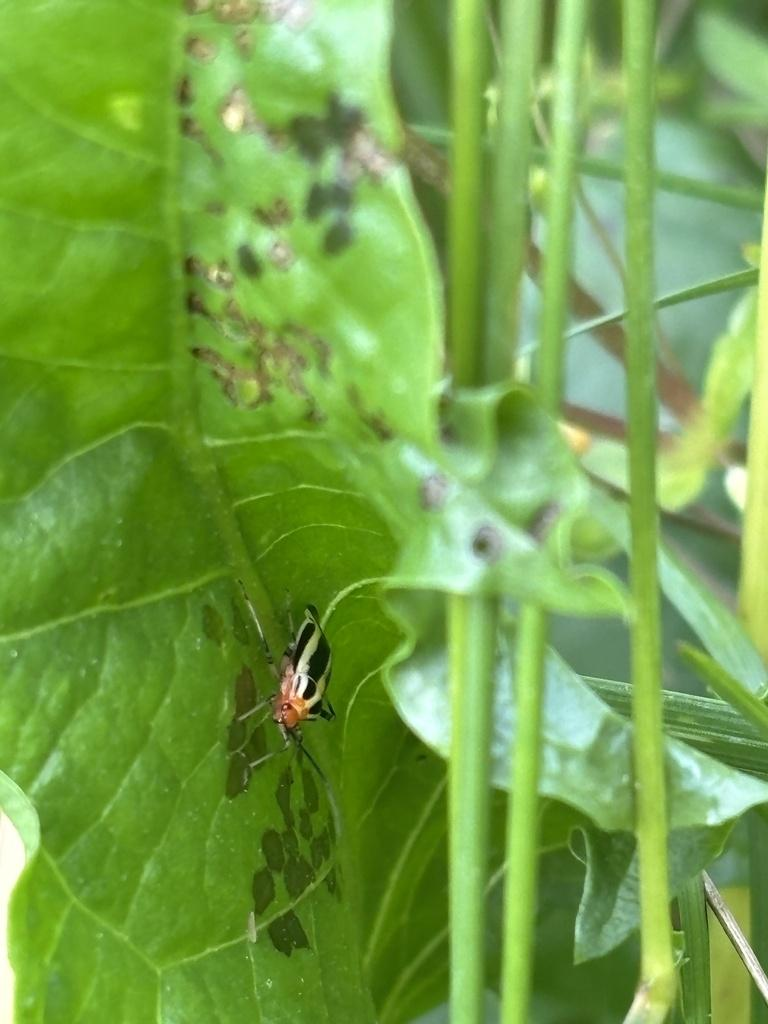plant_bugs: (199, 533, 381, 799)
